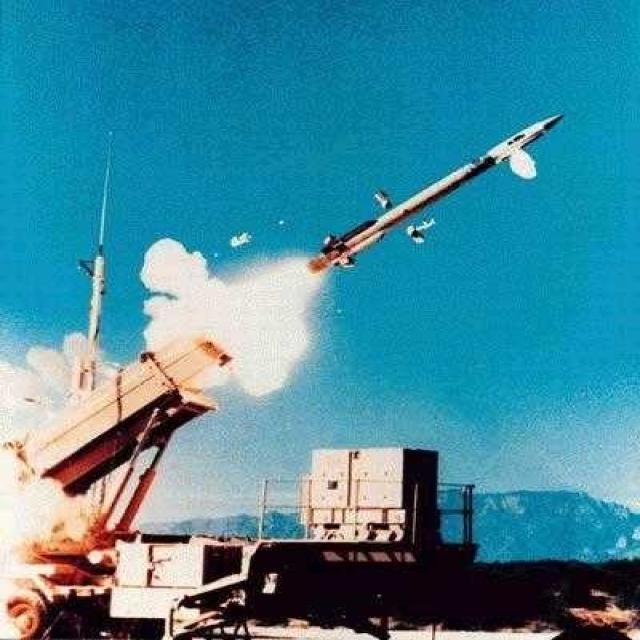missile: (307, 108, 564, 298)
